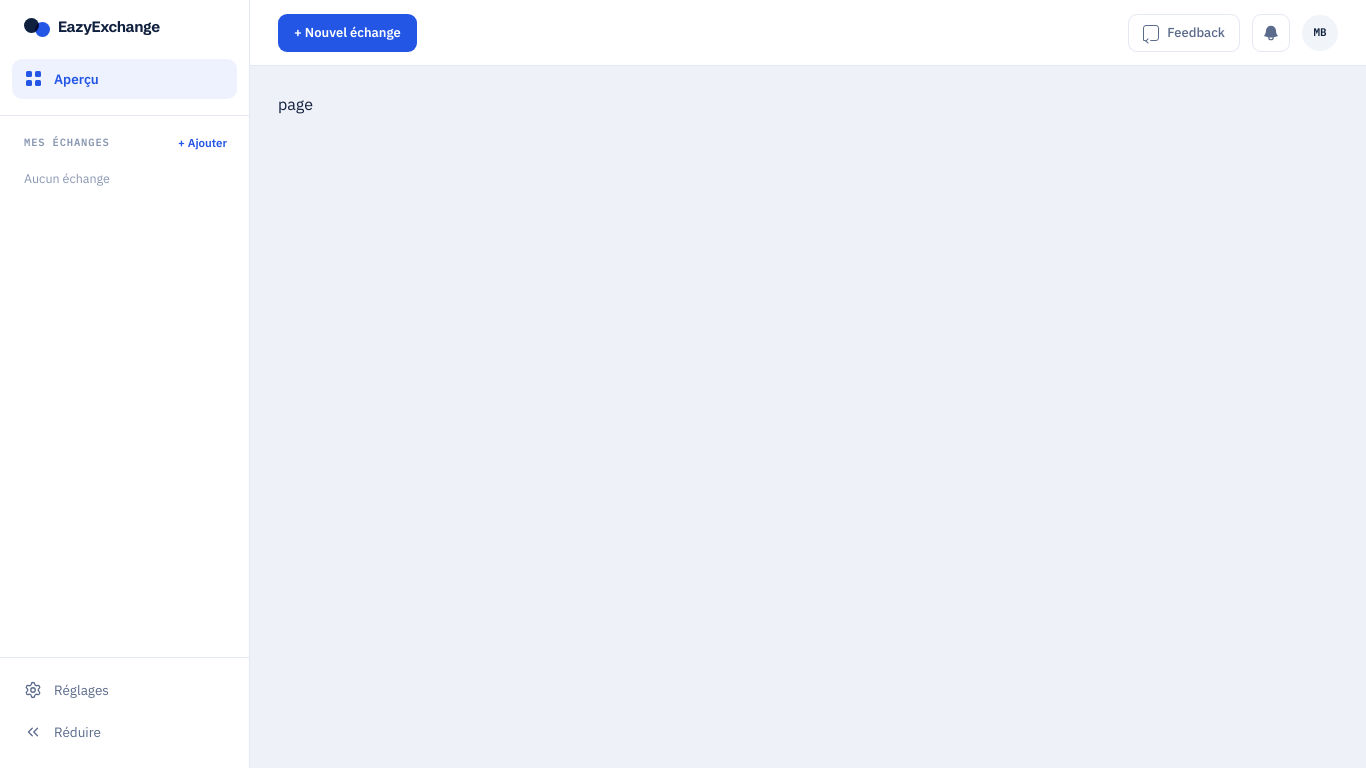
Test: OrganizerShell › + Nouvel échange opens the modal when under cap
What coordinates should you click on to do the following:
click the button "+ Nouvel échange"
I would click on:
 (347, 32)
Its box is top-left (278, 14), bottom-right (417, 52).
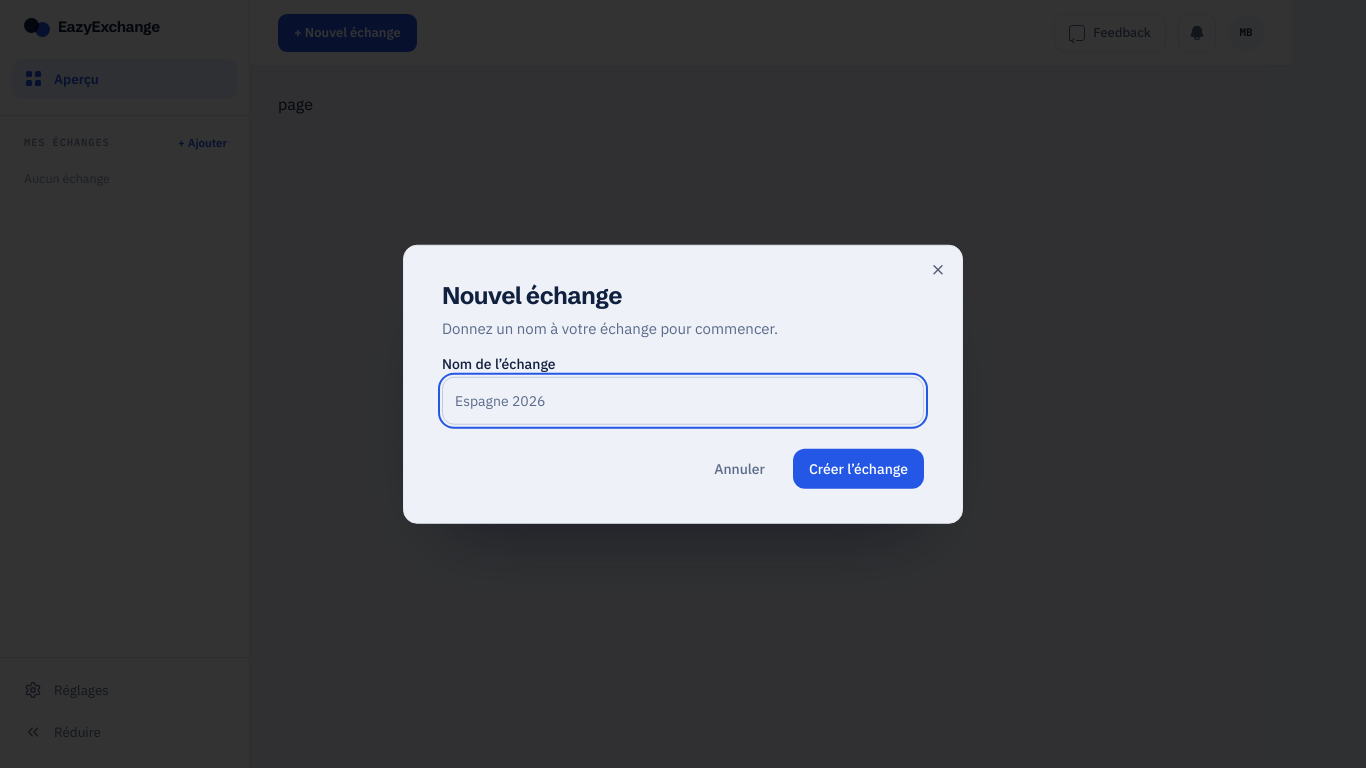
Check: the text "Donnez un nom à votre échange pour commencer." is shown, box top-left (442, 319), bottom-right (778, 338)
